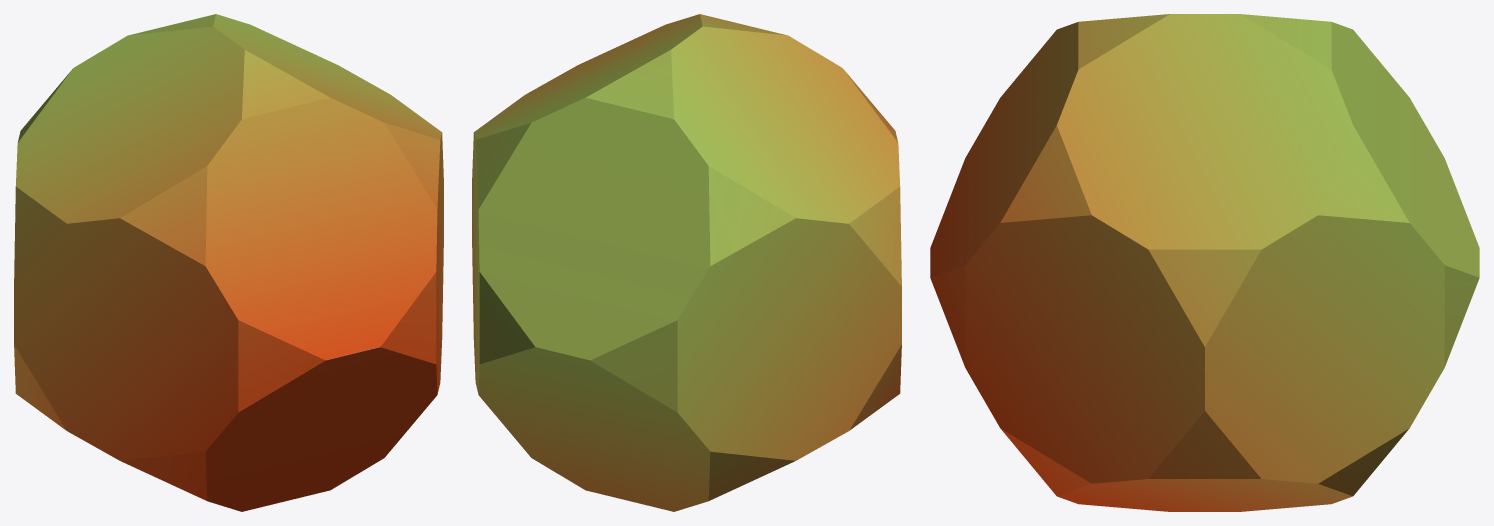
File: Truncated Dodecahedron.glb
3 renders of one model, left to right at view 1: azimuth 30°, elevation 25°; view 2: azimuth 150°, elevation 25°; view 3: azimuth 270°, elevation 25°, orthographic. The views are drawn at different scales.
Visible parts, largest first — view 1: Truncated Dodecahedron; view 2: Truncated Dodecahedron; view 3: Truncated Dodecahedron.
Part boxes in pixels (x1,y1,x2,y2): Truncated Dodecahedron: (14, 14, 443, 511); Truncated Dodecahedron: (472, 14, 901, 511); Truncated Dodecahedron: (930, 14, 1479, 511).
Bounding box in the file's own units: 1.76 × 1.76 × 1.76.
1 material, 1 textured.
